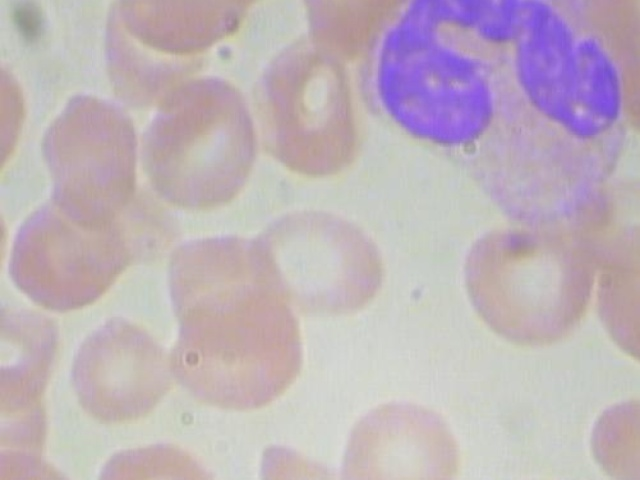RBC: (448, 214, 605, 352), (237, 206, 388, 327), (134, 75, 260, 217), (166, 285, 308, 411), (30, 83, 144, 228), (255, 32, 368, 177), (65, 313, 176, 432), (338, 388, 463, 480), (0, 298, 66, 414), (85, 440, 232, 480), (575, 392, 640, 480), (0, 448, 92, 480), (474, 472, 618, 480), (0, 180, 9, 304)
WBC: (359, 0, 640, 222)
